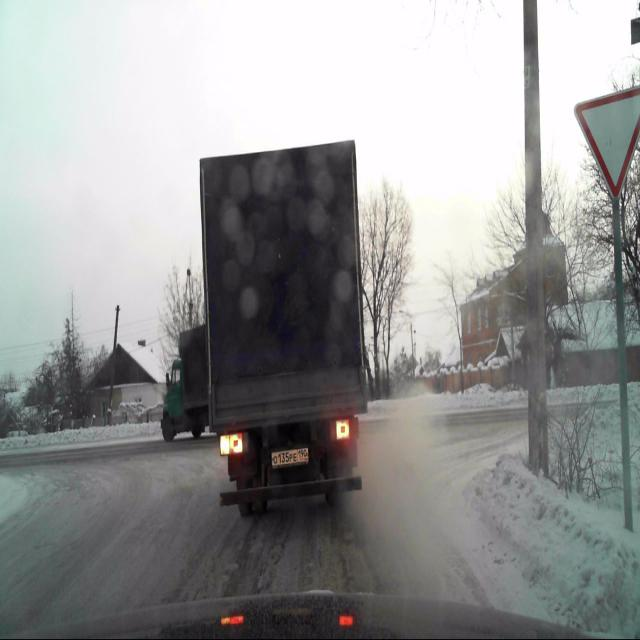road sign: (572, 89, 639, 199), (615, 201, 632, 531)
